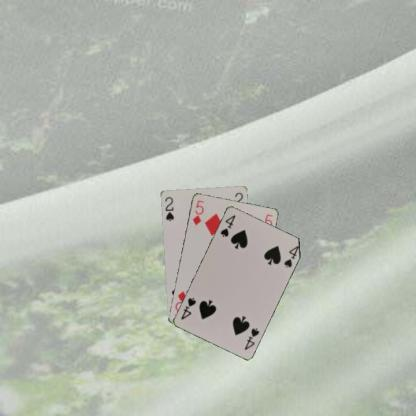2s: (162, 194, 174, 223)
4s: (217, 212, 237, 238), (242, 325, 260, 351)
5d: (190, 198, 205, 226)
